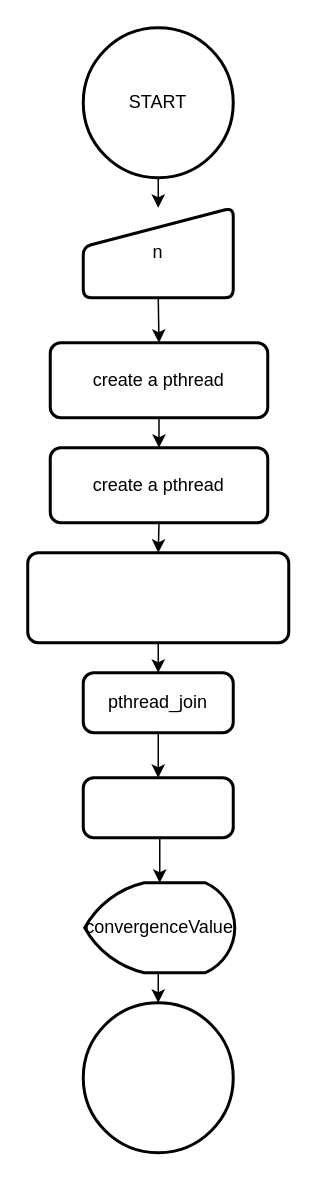
Some shapes in this 315 by 1179 pixel diagram are drawn without their labels. The shapes that lost their labels are listed below. From the top down, each one's box as (x1, y1, x2, y2) in pixels, then its label:
(26, 550, 290, 644): return the value of the geometric series valued in n
(81, 776, 234, 838): add the returned value
(81, 1000, 234, 1154): END
